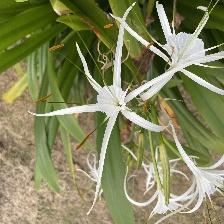spider lily: (73, 66, 165, 141)
